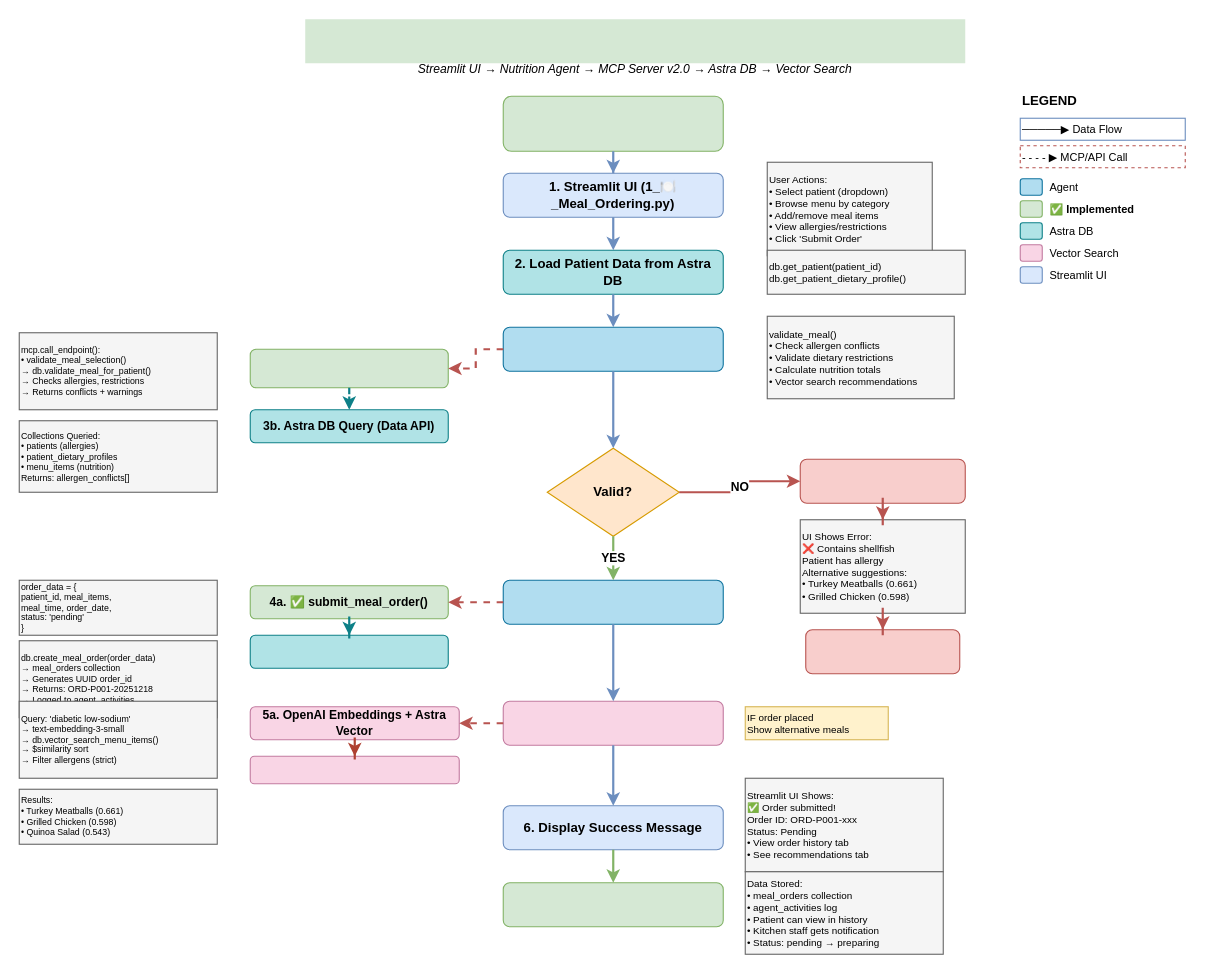
This 1205x974 diagram has some shape labels left out. The box of each missing label's shape, as (x1, y1, x2, y2) in pixels:
3. ✅ Nutrition Validation Agent: (502, 326, 723, 371)
3a. ✅ Meal Order MCP v2.0.0: (249, 348, 448, 388)
4. Submit Order: (502, 579, 723, 624)
4b. Astra DB Insert: (249, 634, 448, 668)
5. ✅ Vector Search Recommendations: (502, 700, 723, 745)
5b. Return Top 5 Meals: (249, 755, 459, 784)
END ✅ Order in Astra DB: (502, 882, 723, 927)
END ❌ Order Blocked: (805, 629, 960, 674)
Meal Order Processing - ACTUAL DATA FLOW (Implemented): (305, 19, 965, 63)
NO - Allergen Conflict!: (799, 458, 965, 503)
START 🍽️ Patient clicks Meal Ordering (Streamlit): (502, 95, 723, 151)
